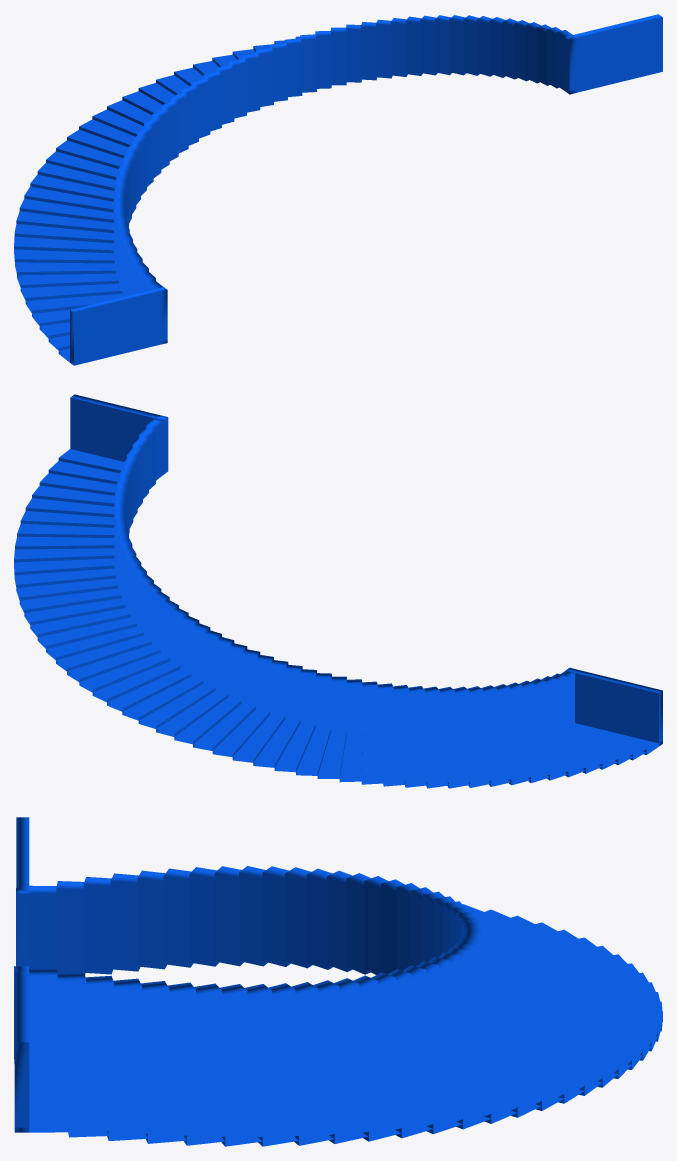
File: stairs.fbx
3 renders of one model, top to bottom at view 1: azimuth 30°, elevation 25°; view 2: azimuth 150°, elevation 25°; view 3: azimuth 270°, elevation 25°, orthographic. The views are drawn at different scales.
Visible parts, largest first — view 1: polySurface1; view 2: polySurface1; view 3: polySurface1.
Part boxes in pixels (x1=…): polySurface1: x1=14, y1=14, x2=662, y2=365; polySurface1: x1=14, y1=394, x2=662, y2=788; polySurface1: x1=14, y1=817, x2=662, y2=1146.
Bounding box in the file's own units: 50 × 16.66 × 28.68.
